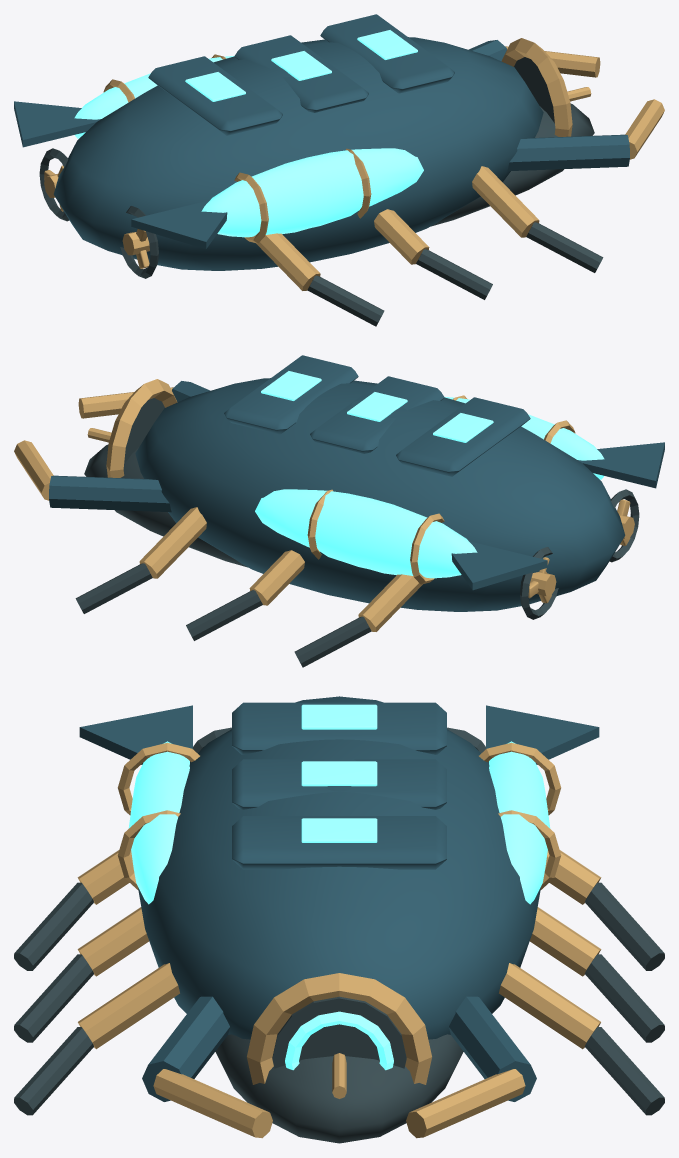
File: enemy-leech.glb
3 views of the same model, one above another, from view 1: azimuth 30°, elevation 25°; view 2: azimuth 150°, elevation 25°; view 3: azimuth 270°, elevation 25° (orthographic). The views are drawn at different scales.
Parts seen in each view (by area): view 1: enemy-leech / Hull | Prussian enamel, enemy-leech / Lamp | turbine mint, enemy-leech / Fittings | worn maritime brass, enemy-leech / Hull | charcoal iron; view 2: enemy-leech / Hull | Prussian enamel, enemy-leech / Lamp | turbine mint, enemy-leech / Fittings | worn maritime brass, enemy-leech / Hull | charcoal iron; view 3: enemy-leech / Hull | Prussian enamel, enemy-leech / Hull | charcoal iron, enemy-leech / Fittings | worn maritime brass, enemy-leech / Lamp | turbine mint.
Boxes of the visible parts, <box> form: enemy-leech / Hull | Prussian enamel: <box>14,14,629,270</box>; enemy-leech / Lamp | turbine mint: <box>74,30,423,237</box>; enemy-leech / Fittings | worn maritime brass: <box>44,38,664,290</box>; enemy-leech / Hull | charcoal iron: <box>39,57,603,326</box>; enemy-leech / Hull | Prussian enamel: <box>49,355,664,611</box>; enemy-leech / Lamp | turbine mint: <box>255,371,604,578</box>; enemy-leech / Fittings | worn maritime brass: <box>14,379,634,631</box>; enemy-leech / Hull | charcoal iron: <box>75,398,639,667</box>; enemy-leech / Hull | Prussian enamel: <box>79,696,599,1101</box>; enemy-leech / Hull | charcoal iron: <box>14,727,664,1143</box>; enemy-leech / Fittings | worn maritime brass: <box>77,742,601,1138</box>; enemy-leech / Lamp | turbine mint: <box>128,704,550,1070</box>.
Size of the model in its own units: 7.26 by 2.15 by 5.34.
